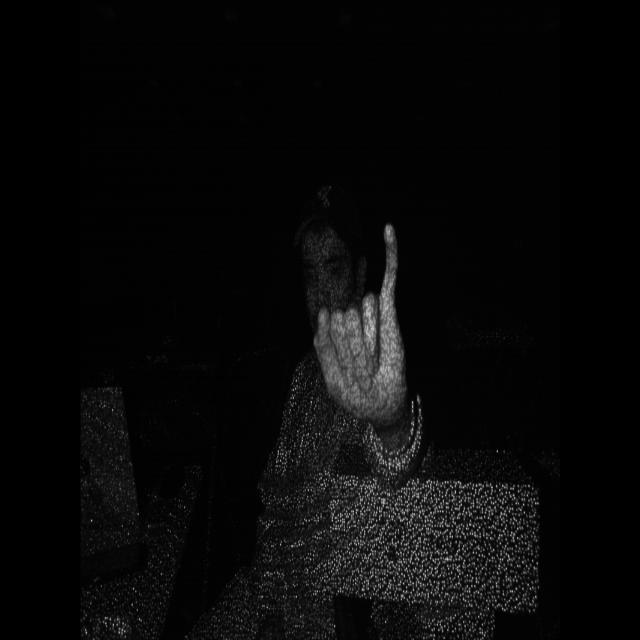I: (308, 211, 413, 430)
